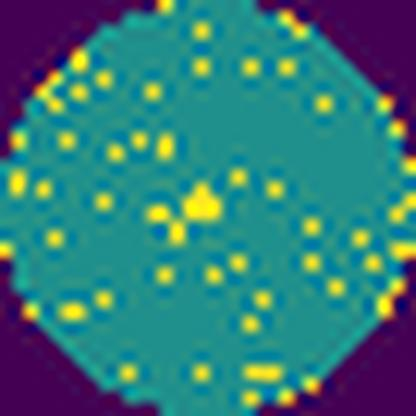Center: (166, 182, 226, 233)
